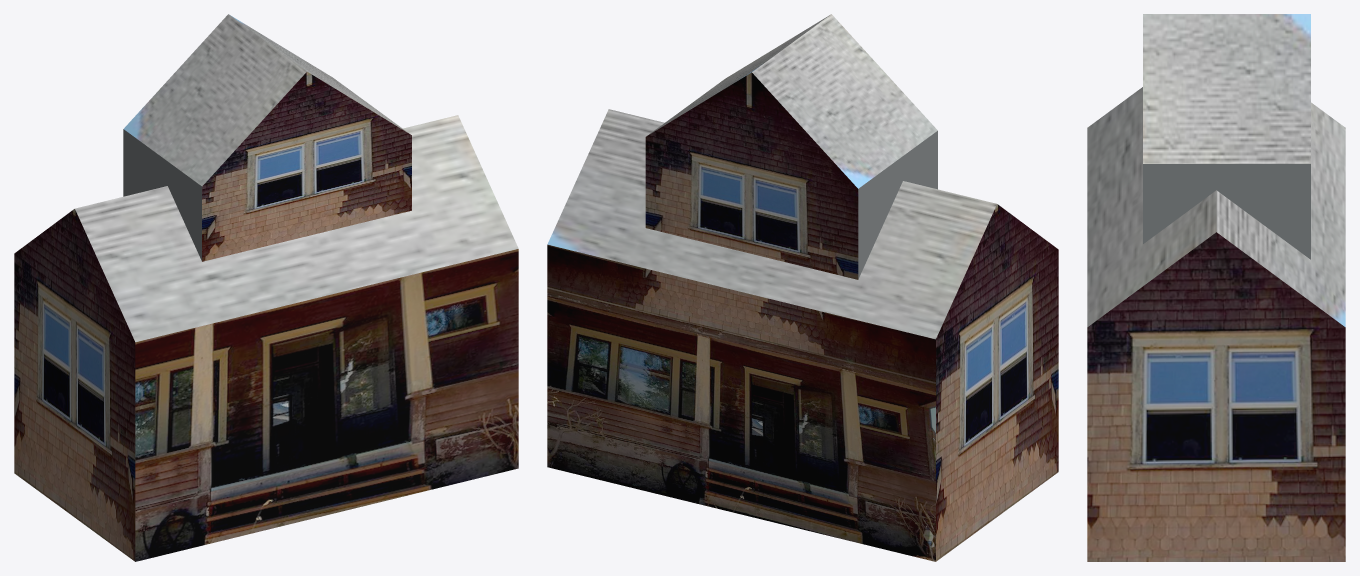
Rendered from oldhome.fbx.
3 views of the same model, side by side, from view 1: azimuth 30°, elevation 25°; view 2: azimuth 150°, elevation 25°; view 3: azimuth 270°, elevation 25° (orthographic). The views are drawn at different scales.
Visible parts, largest first — view 1: Cube; view 2: Cube; view 3: Cube.
Part boxes in pixels (x1=…): Cube: x1=14, y1=14, x2=518, y2=561; Cube: x1=547, y1=14, x2=1058, y2=561; Cube: x1=1087, y1=14, x2=1345, y2=561.
Bounding box in the file's own units: 200 × 365 × 385.
1 material, 1 textured.
